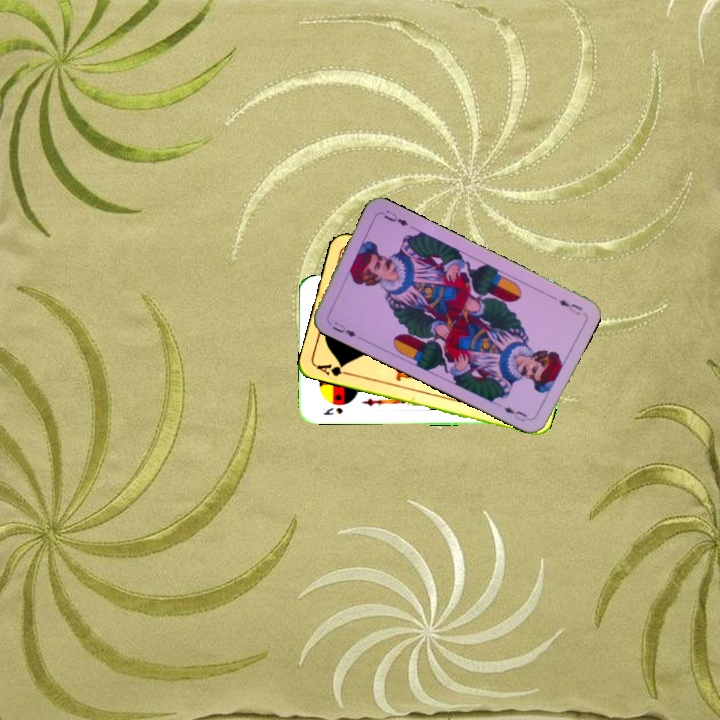EU: (328, 318, 363, 340), (555, 295, 585, 318)
GA: (313, 360, 353, 379)
SK: (319, 404, 345, 417)
